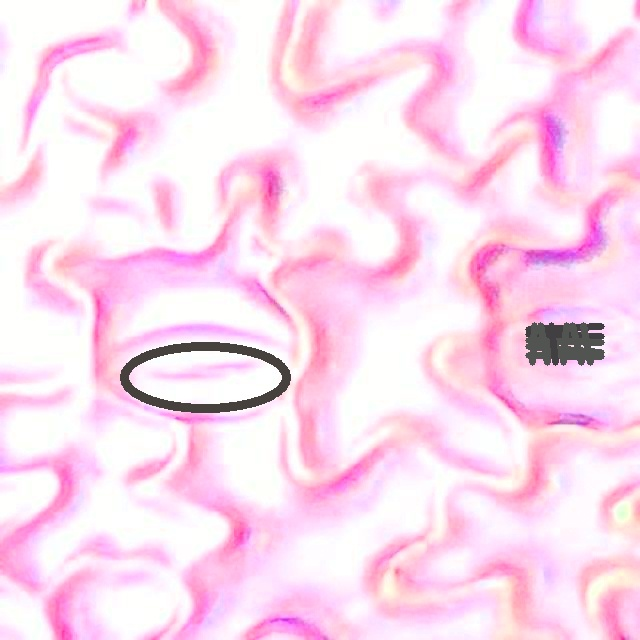open: (120, 341, 290, 412), (525, 322, 604, 365)
